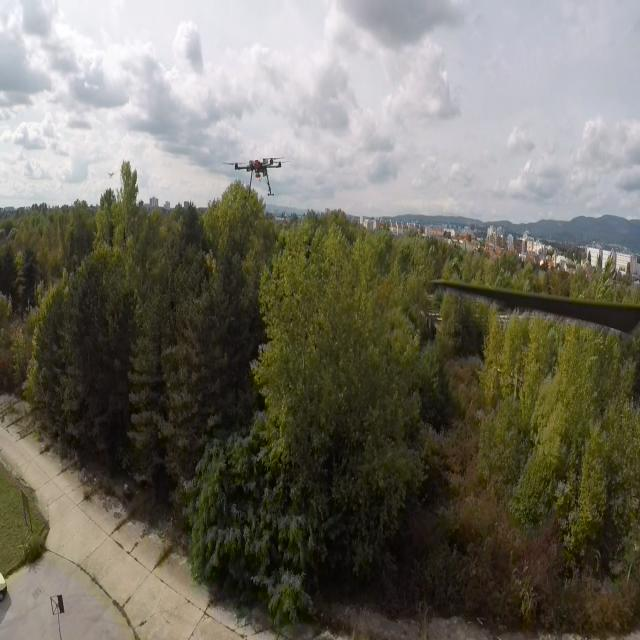UAV: (223, 152, 291, 203)
